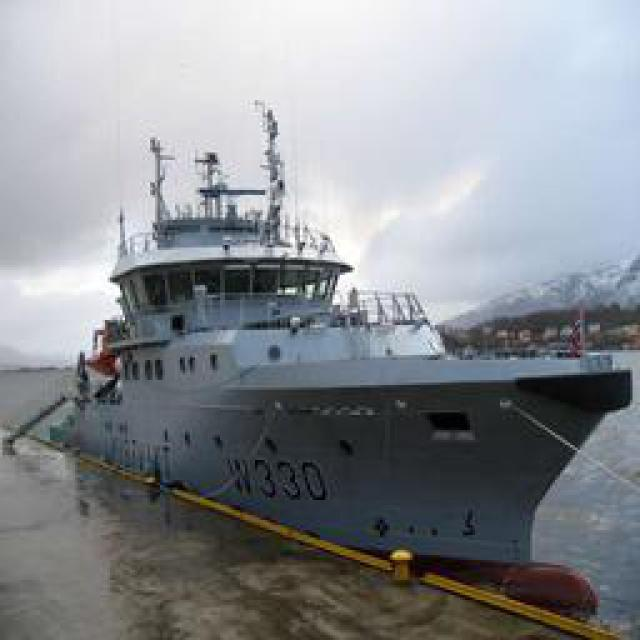Ship: (52, 80, 635, 585)
